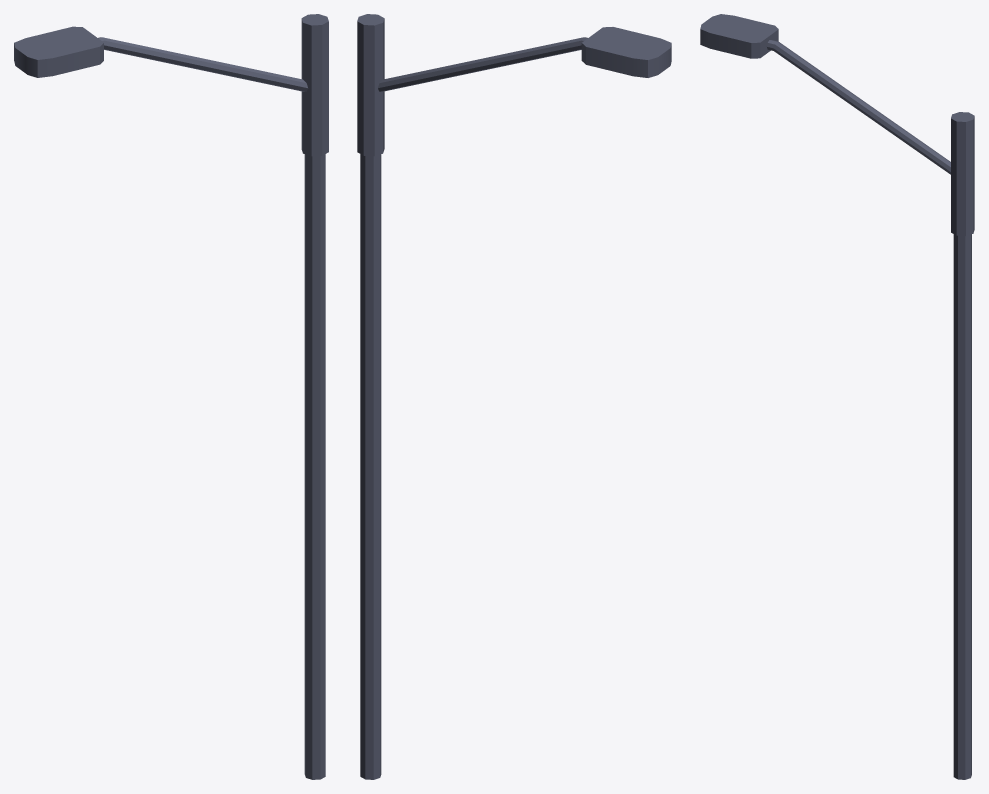
File: 13 Light_Poll.FBX
3 views of the same model, side by side, from view 1: azimuth 30°, elevation 25°; view 2: azimuth 150°, elevation 25°; view 3: azimuth 330°, elevation 25° (orthographic). The views are drawn at different scales.
Parts seen in each view (by area): view 1: Line048; view 2: Line048; view 3: Line048.
Boxes of the visible parts, x1,y1,x2,y2 form: Line048: (14,14,328,779); Line048: (357,14,671,779); Line048: (700,14,974,779).
Bounding box in the file's own units: 1145 × 2843 × 177.
